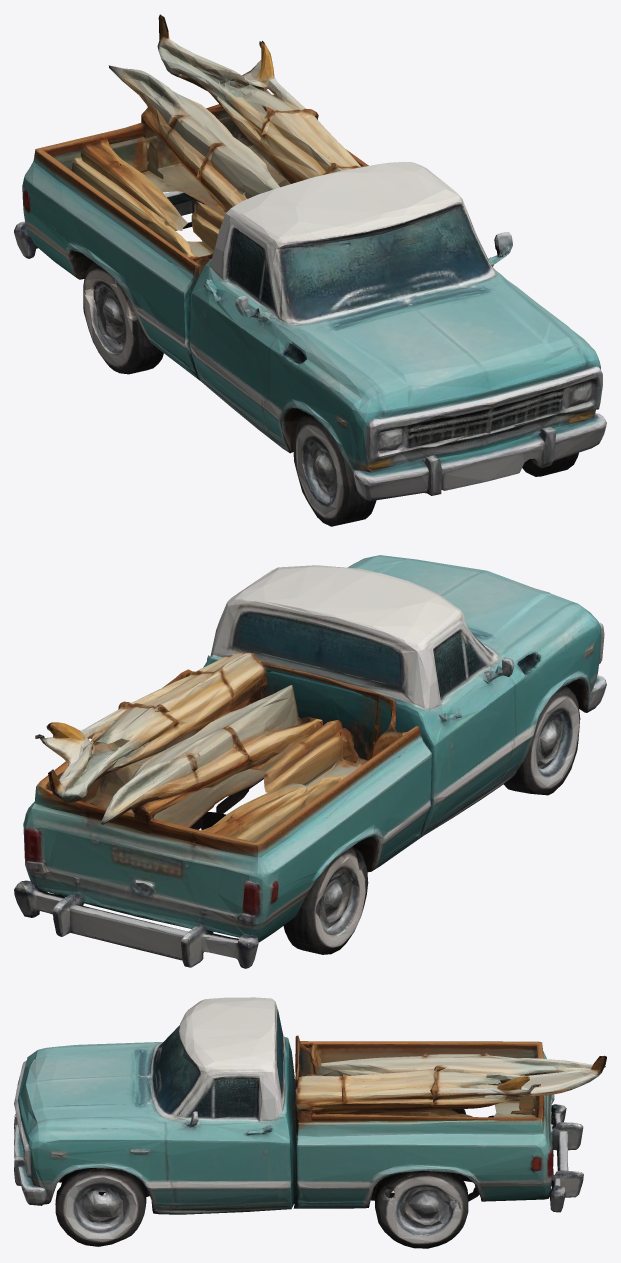
The model's file is car_pickup.glb.
The picture shows the model from 3 angles, top to bottom: view 1: azimuth 30°, elevation 25°; view 2: azimuth 150°, elevation 25°; view 3: azimuth 270°, elevation 25°; orthographic projection. The views are drawn at different scales.
Parts seen in each view (by area): view 1: world; view 2: world; view 3: world.
Part boxes in pixels (x1,y1,x2,y2): world: (14, 14, 606, 526); world: (14, 555, 606, 968); world: (14, 997, 606, 1248).
Bounding box in the file's own units: 0.4073 × 0.3383 × 0.9987.
1 material, 1 textured.
